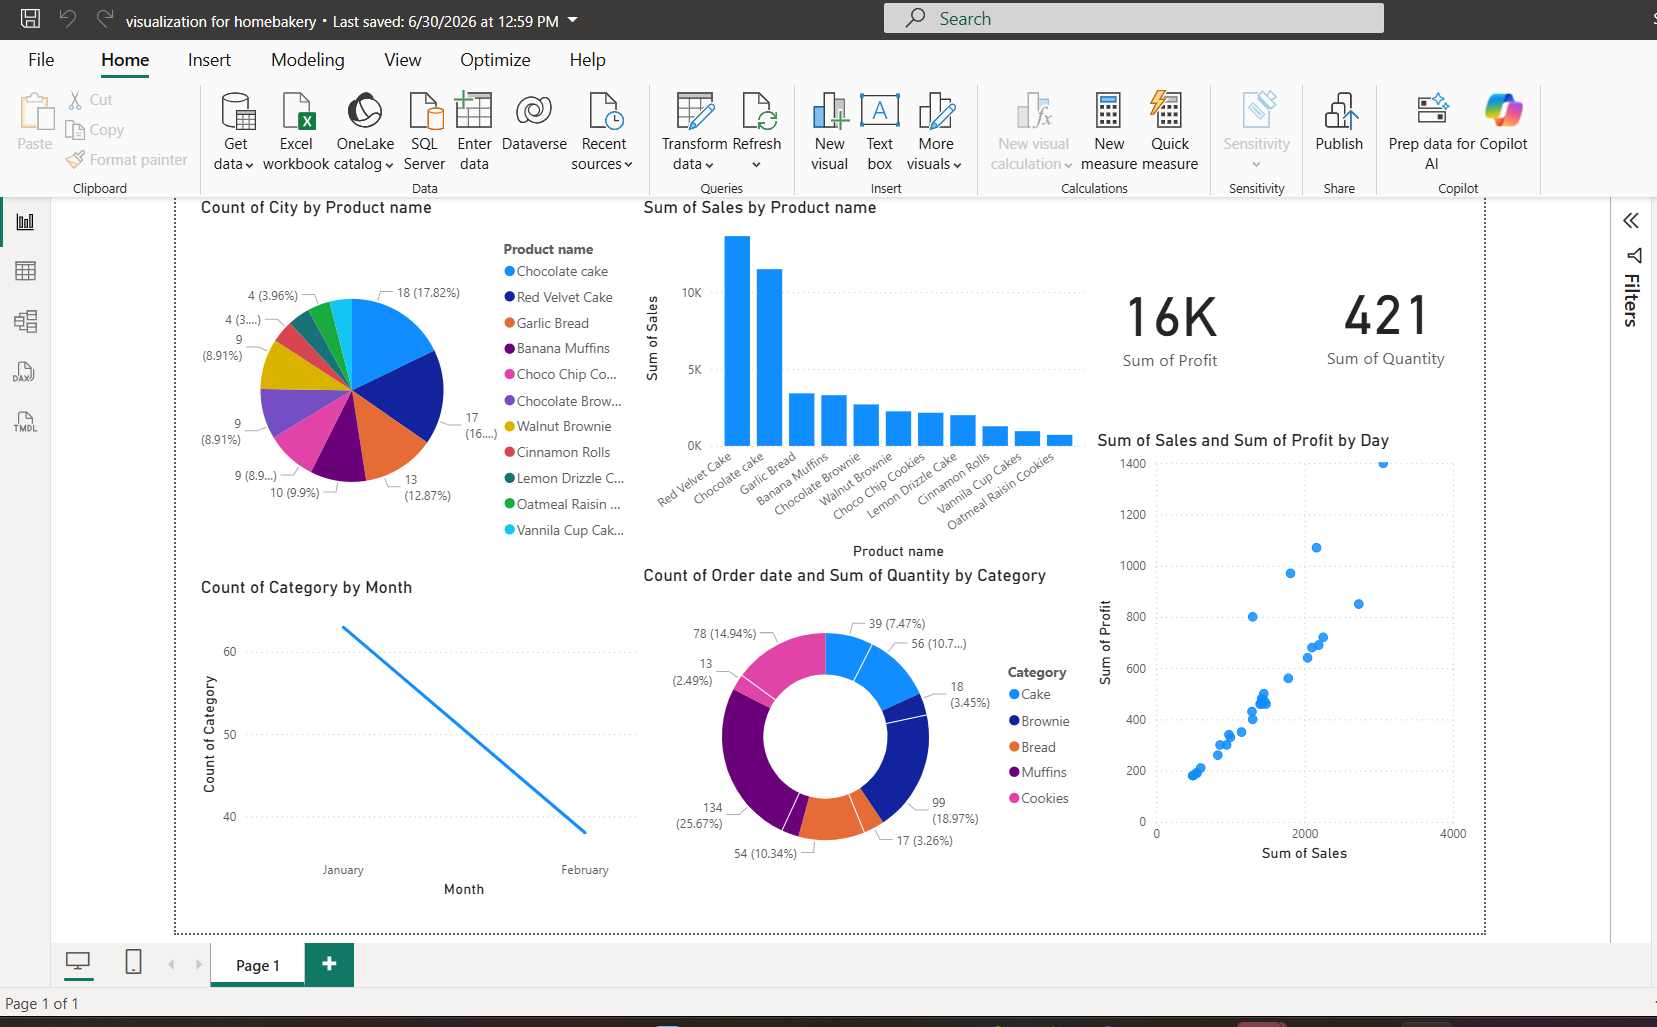

What the dashboard file says about the page in this screenshot:
{"tool":"powerbi","page":{"name":"Page 1","canvas":[1280,720],"ordinal":0},"visuals":[{"type":"pieChart","fields":{"Category":["Sheet1.Product name"],"Y":["CountNonNull(Sheet1.City)"]},"box":[19.2,0,433.6,359.5],"z":0},{"type":"lineChart","fields":{"Category":["Sheet1.Order date.Variation.Date Hierarchy.Month","Sheet1.Order date.Variation.Date Hierarchy.Day"],"Y":["CountNonNull(Sheet1.Category)"]},"box":[19.2,371.9,480.3,318.4],"z":1000},{"type":"columnChart","fields":{"Category":["Sheet1.Product name"],"Y":["Sum(Sheet1.Sales)"]},"box":[452.4,0,442.7,359.5],"z":2000},{"type":"donutChart","fields":{"Category":["Sheet1.Category"],"Y":["CountNonNull(Sheet1.Order date)","Sum(Sheet1.Quantity )"]},"box":[452.2,360,442.2,317.8],"z":3000},{"type":"scatterChart","fields":{"X":["Sum(Sheet1.Sales)"],"Category":["Sheet1.Order date.Variation.Date Hierarchy.Day"],"Y":["Sum(Sheet1.Profit)"]},"box":[896.7,227.8,371.1,427.8],"z":4000},{"type":"card","fields":{"Values":["Sum(Sheet1.Profit)"]},"box":[894.4,32.2,157.8,177.8],"z":4001},{"type":"card","fields":{"Values":["Sum(Sheet1.Quantity )"]},"box":[1104.4,44.4,163.3,150],"z":4002}]}

Visuals, with their boxes on the page's 1280x720 design canvas (x1, y1, x2, y2). These are canvas units, not pixel positions in the 1657x1027 screenshot, which may show the page scaled, cropped or inside an application window:
pieChart - Sheet1.Product name x CountNonNull(Sheet1.City): x1=19 y1=0 x2=453 y2=360
lineChart - Sheet1.Order date.Variation.Date Hierarchy.Month x Sheet1.Order date.Variation.Date Hierarchy.Day: x1=19 y1=372 x2=500 y2=690
columnChart - Sheet1.Product name x Sum(Sheet1.Sales): x1=452 y1=0 x2=895 y2=360
donutChart - Sheet1.Category x CountNonNull(Sheet1.Order date): x1=452 y1=360 x2=894 y2=678
scatterChart - Sum(Sheet1.Sales) x Sheet1.Order date.Variation.Date Hierarchy.Day: x1=897 y1=228 x2=1268 y2=656
card - Sum(Sheet1.Profit): x1=894 y1=32 x2=1052 y2=210
card - Sum(Sheet1.Quantity ): x1=1104 y1=44 x2=1268 y2=194
